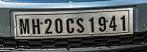0: (54, 18, 64, 34)
1: (88, 17, 96, 33), (120, 14, 127, 32)
2: (43, 19, 54, 34)
4: (109, 15, 118, 32)
9: (98, 16, 107, 33)
C: (66, 18, 75, 34)
H: (32, 18, 42, 35)
M: (18, 18, 31, 35)
S: (76, 18, 86, 34)
